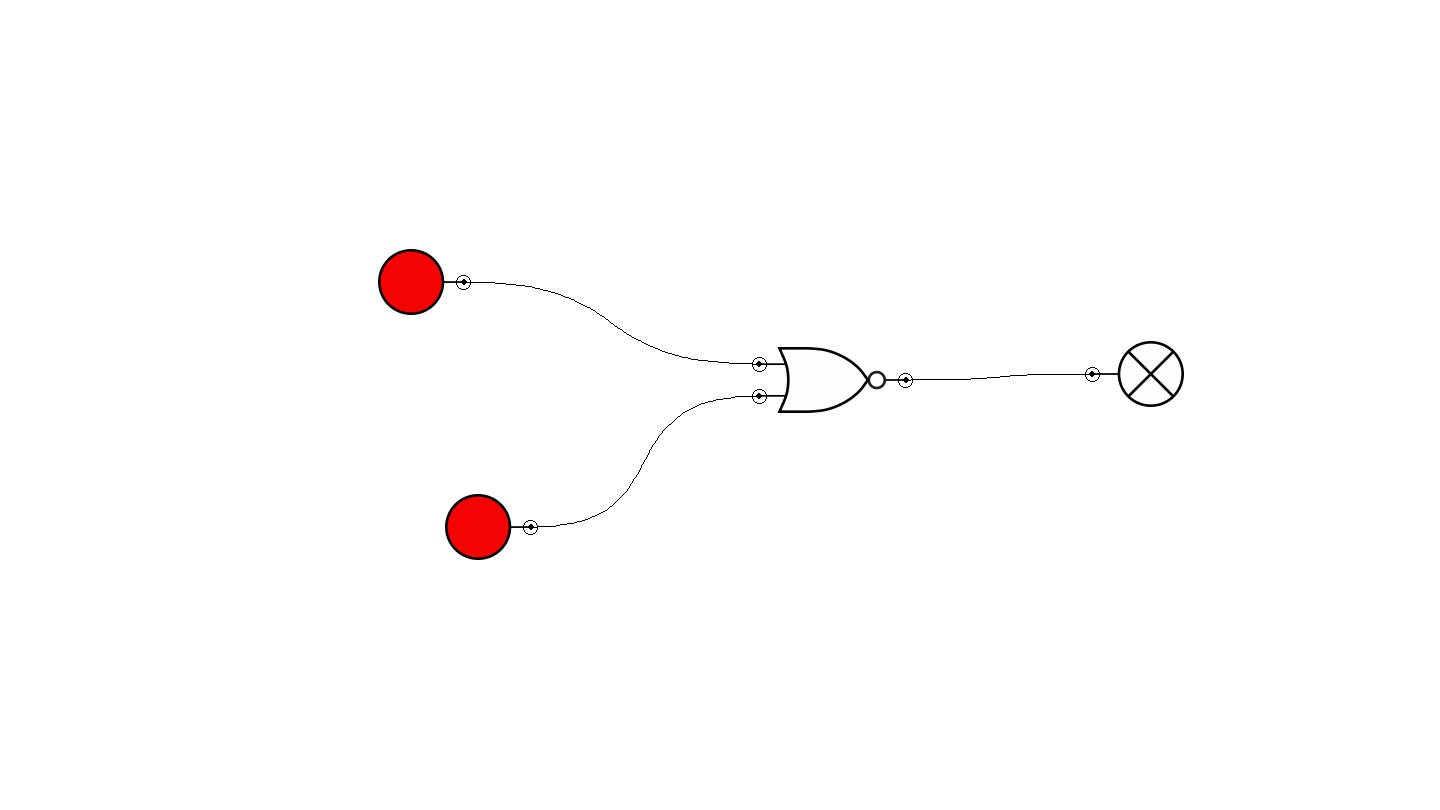bulb: (1085, 341, 1184, 407)
nor: (752, 347, 913, 413)
switch_False: (445, 494, 538, 560), (378, 249, 471, 315)
